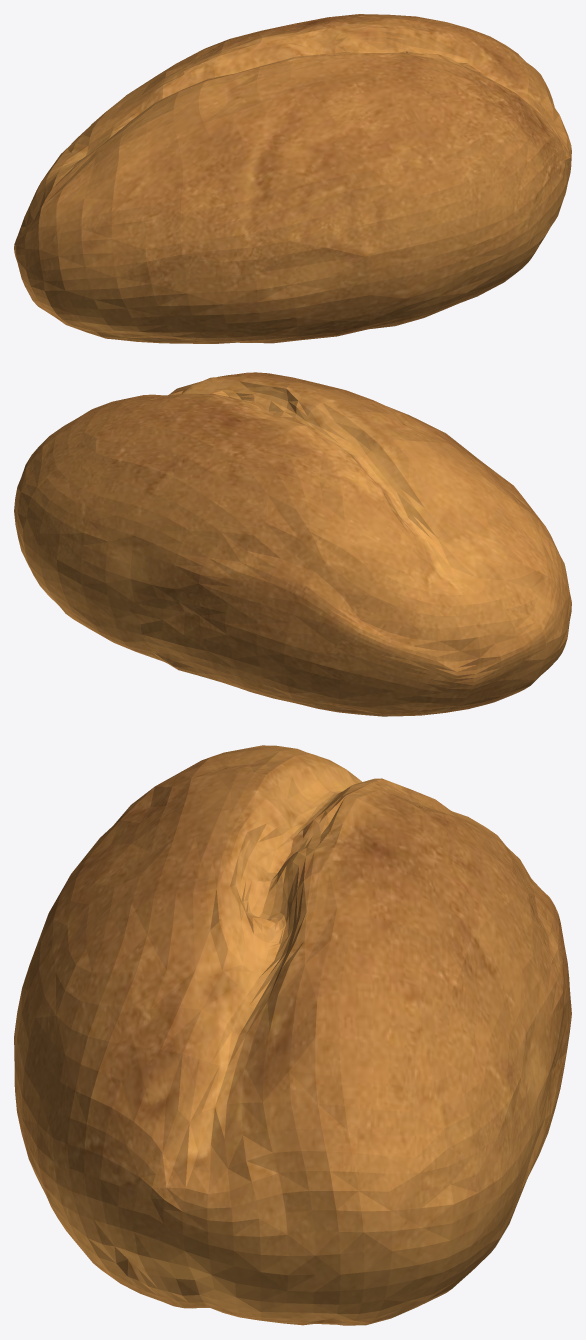
Rendered from roll.glb.
3 views of the same model, one above another, from view 1: azimuth 30°, elevation 25°; view 2: azimuth 150°, elevation 25°; view 3: azimuth 270°, elevation 25° (orthographic). The views are drawn at different scales.
Parts seen in each view (by area): view 1: mesh.023; view 2: mesh.023; view 3: mesh.023.
Boxes of the visible parts, box(x1,y1,x2,y2) form: mesh.023: box(14, 14, 571, 343); mesh.023: box(14, 372, 571, 716); mesh.023: box(14, 745, 571, 1325).
Size of the model in its own units: 0.12 by 0.052 by 0.07.
1 material, 1 textured.
